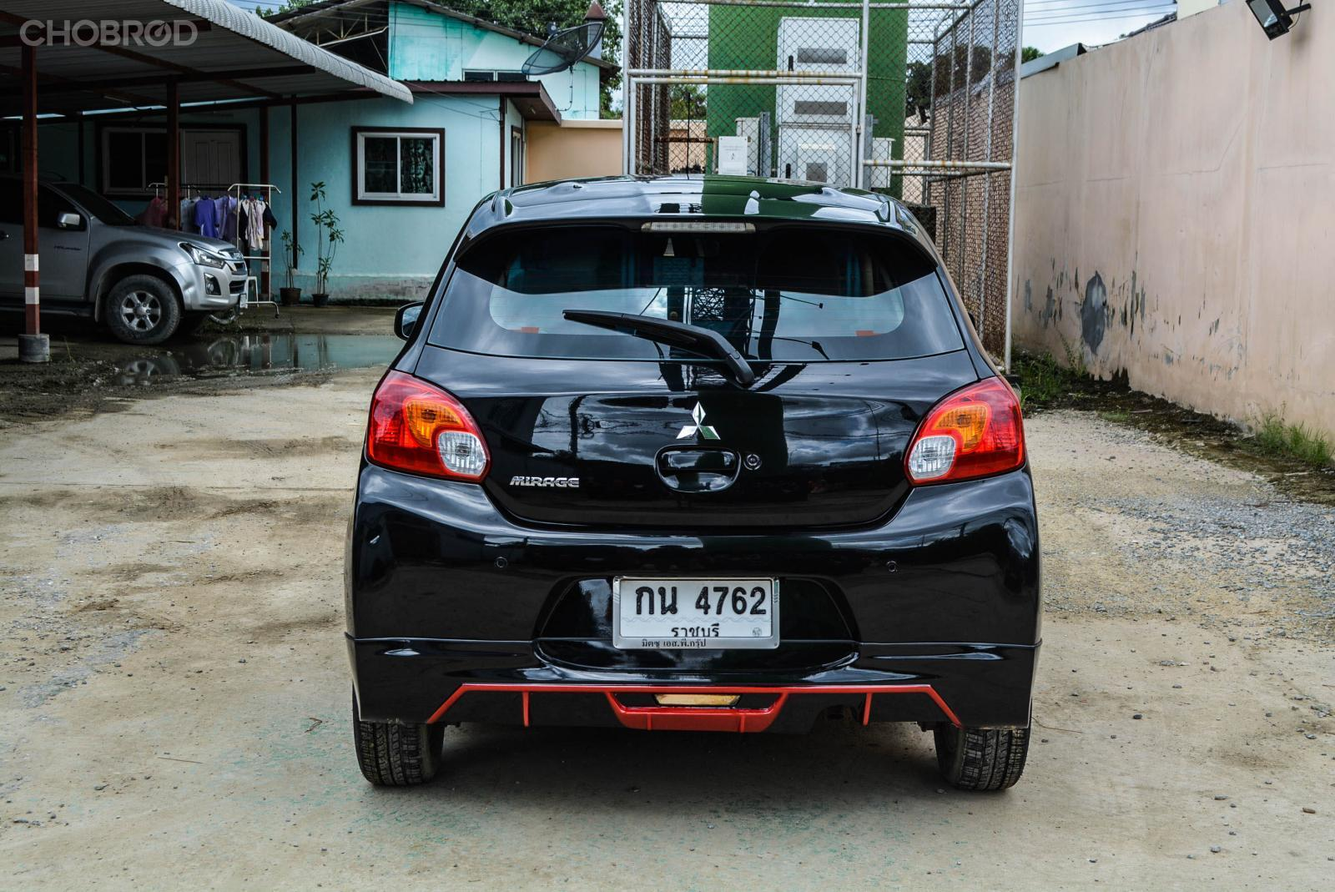license-plate: (612, 573, 781, 651)
